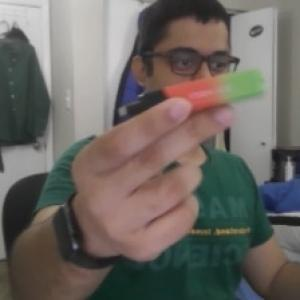Swift-E-Ciggirate: (112, 63, 267, 122)
